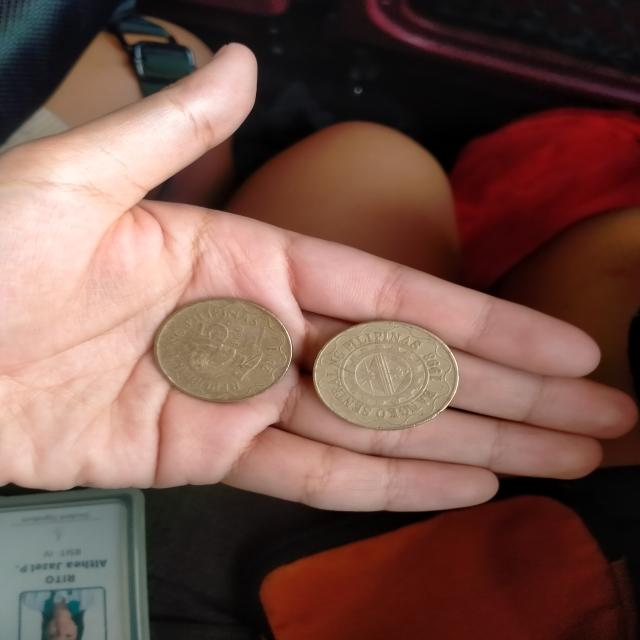5_Old_Back: (317, 317, 460, 429)
5_Old_Front: (189, 308, 251, 349)
